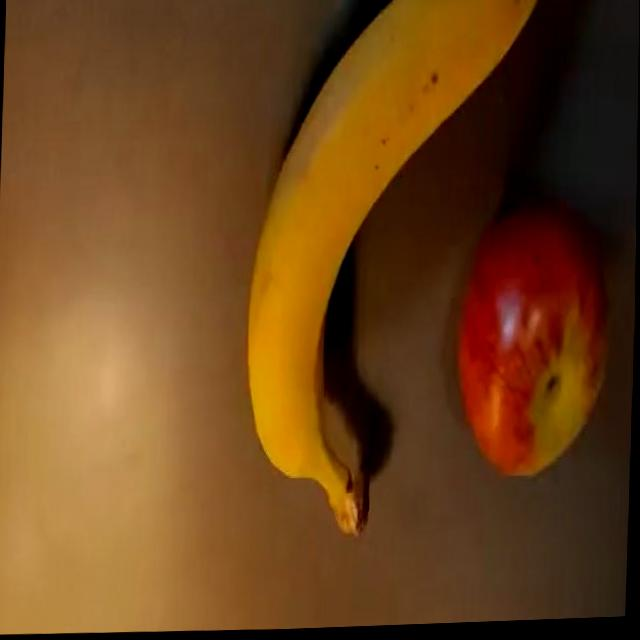Apple: (450, 199, 616, 484)
Banana: (239, 0, 543, 533)
